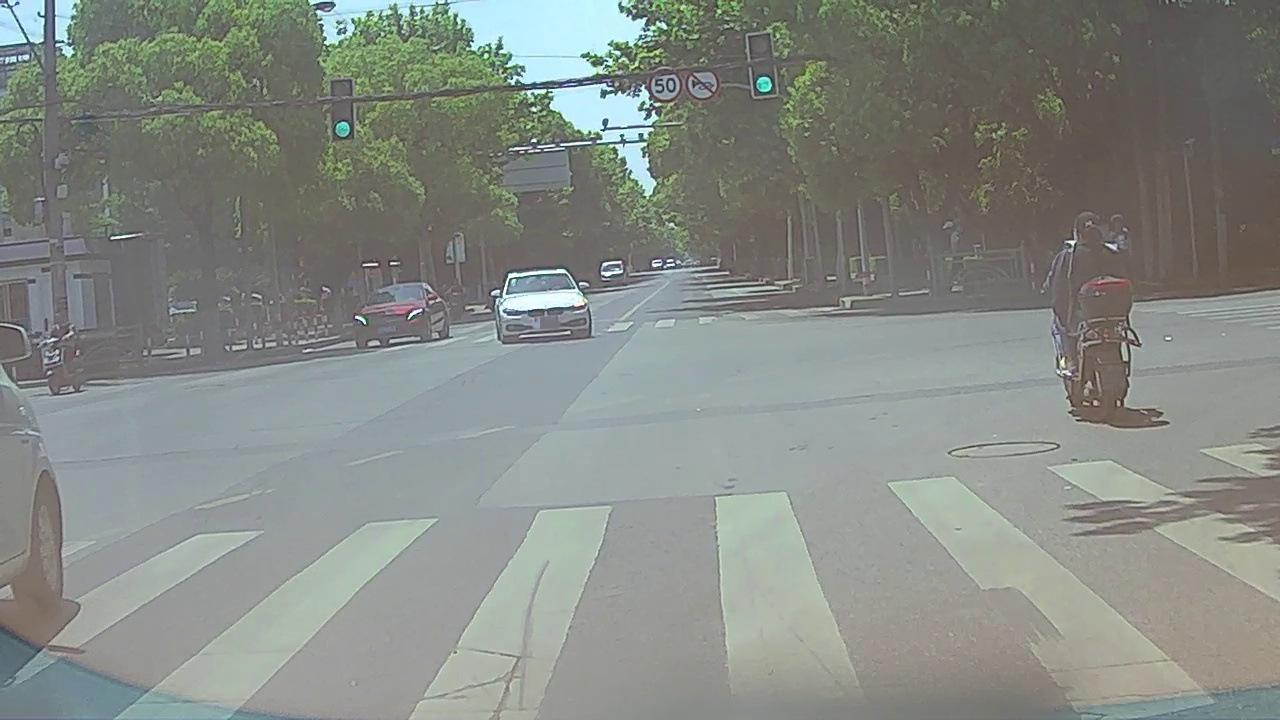traffic_light: (749, 34, 777, 95), (331, 81, 351, 141)
